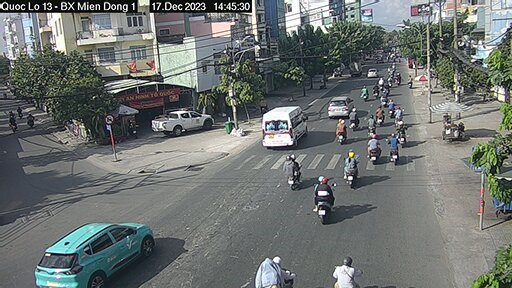car: (48, 213, 154, 281), (262, 98, 304, 151), (149, 103, 220, 132), (330, 90, 354, 122)
motorbike: (334, 255, 364, 286), (314, 176, 331, 204), (333, 120, 351, 145), (283, 155, 298, 183), (344, 149, 354, 187), (365, 137, 379, 159), (389, 133, 398, 160)
